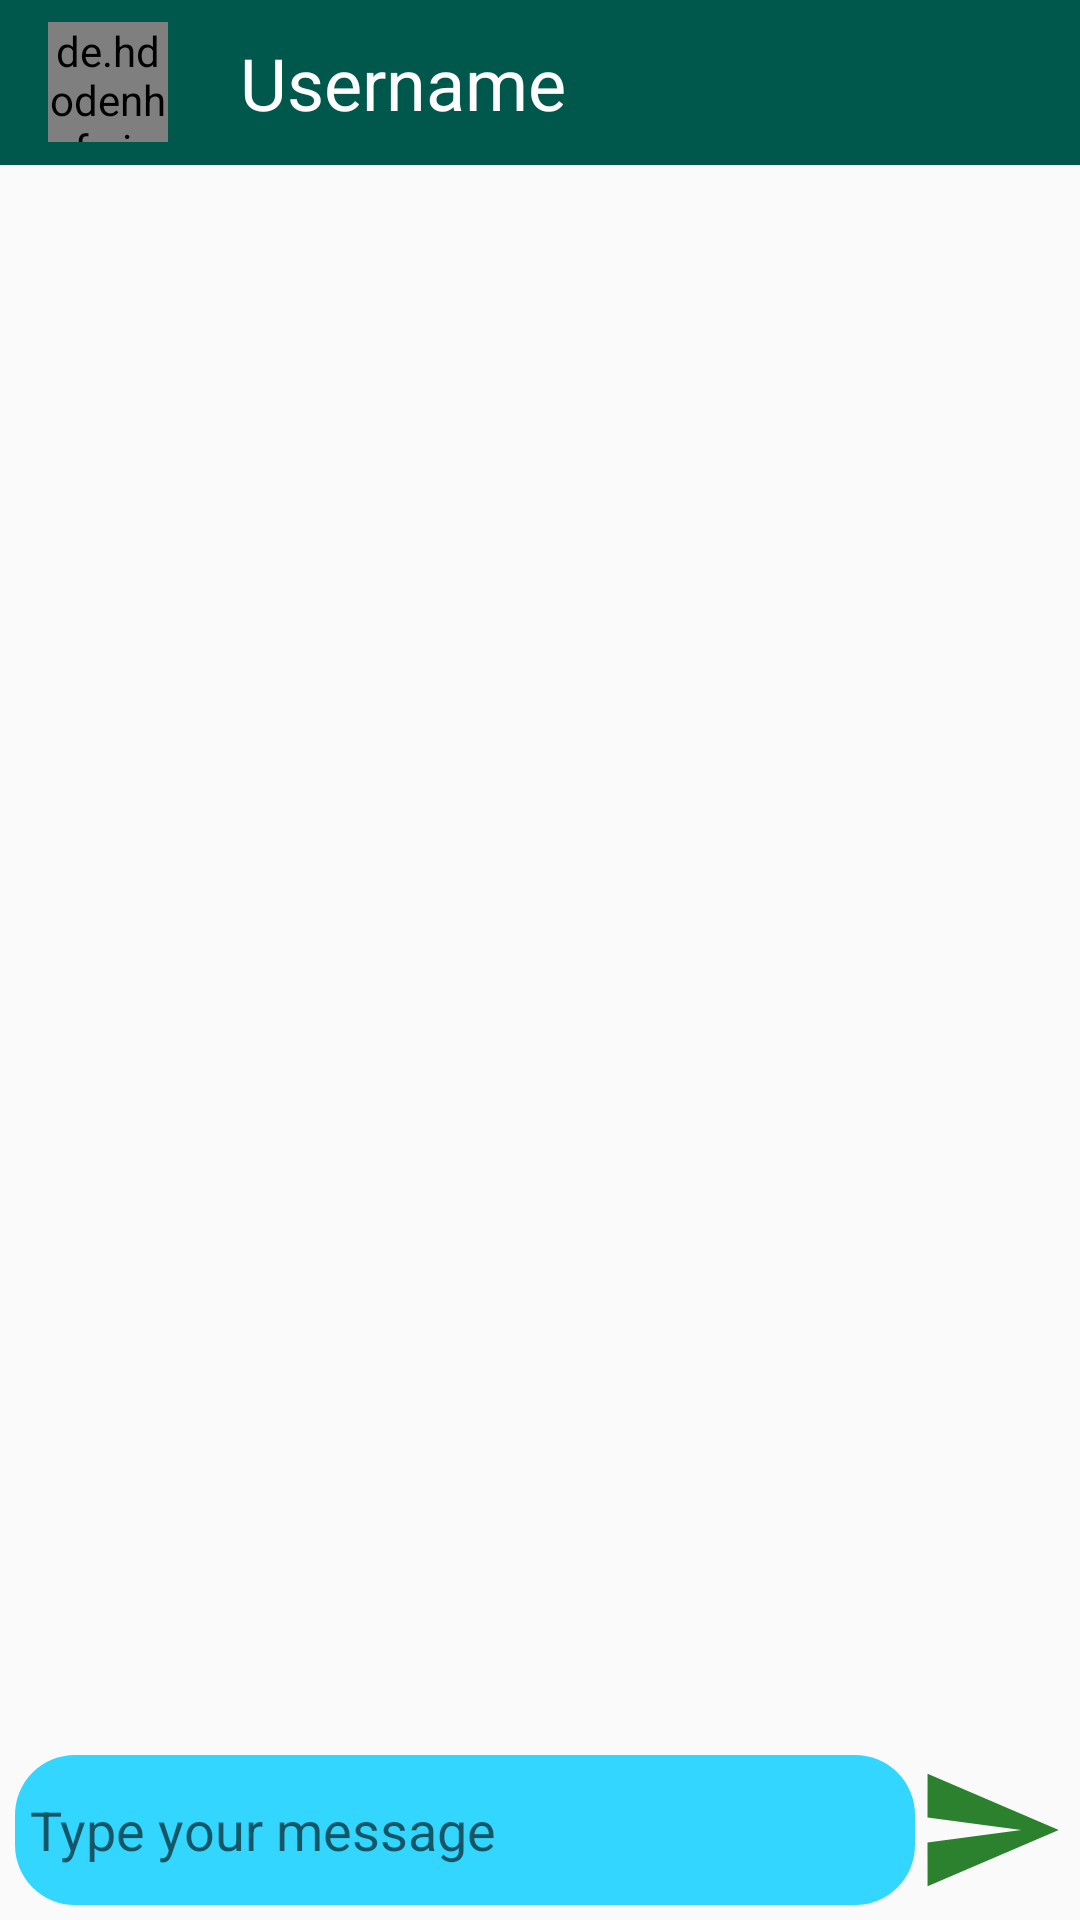

Screen size 1080*1920. Icon name, then its center in pixels as (x,y):
send: (992,1830)
